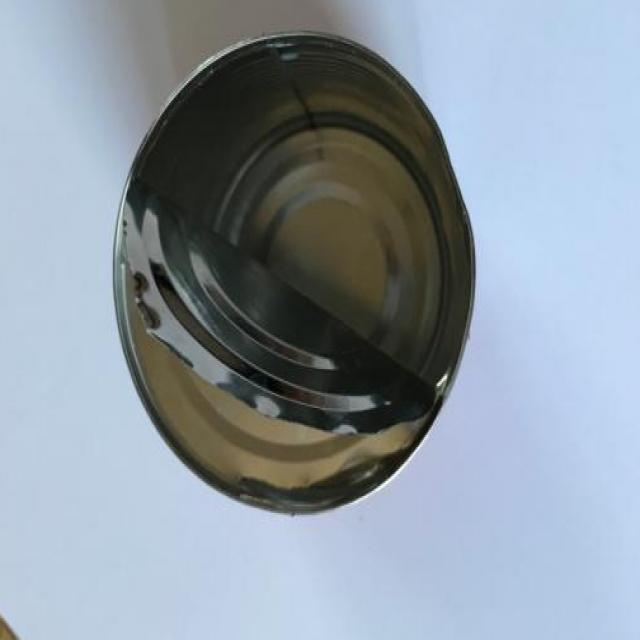metal: (113, 32, 476, 514)
